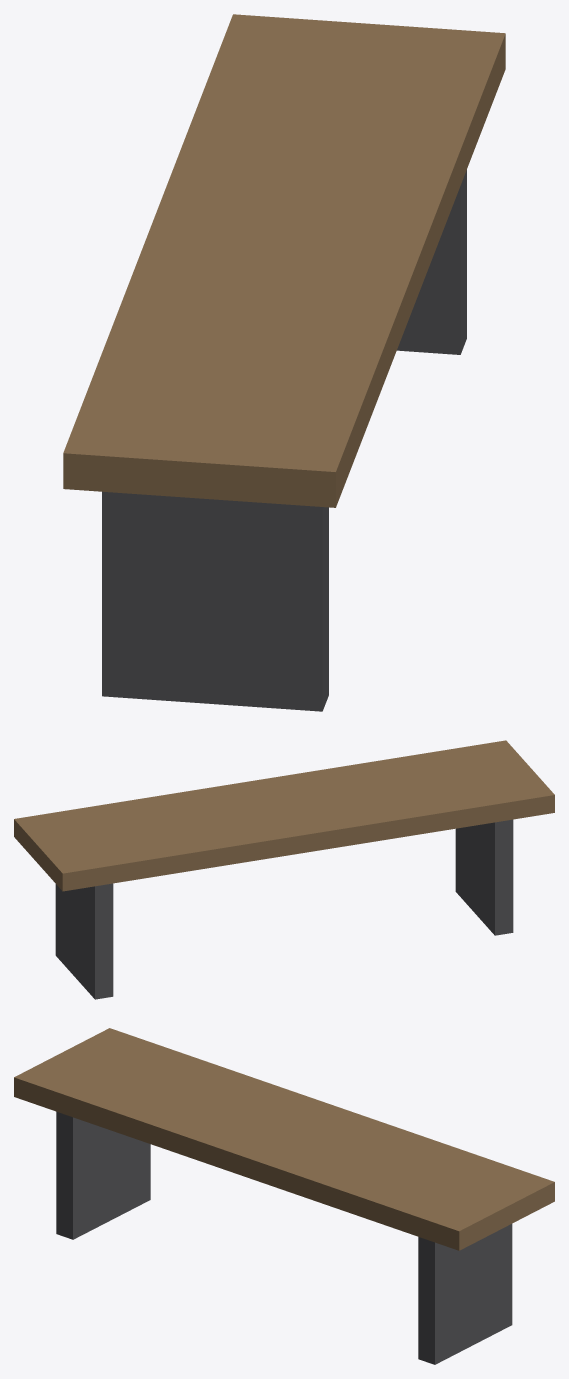
File: zastavky.glb
The picture shows the model from 3 angles, top to bottom: view 1: azimuth 30°, elevation 25°; view 2: azimuth 150°, elevation 25°; view 3: azimuth 270°, elevation 25°; orthographic projection. The views are drawn at different scales.
Bounding box in the file's own units: 1.34 × 0.46 × 1.5.
